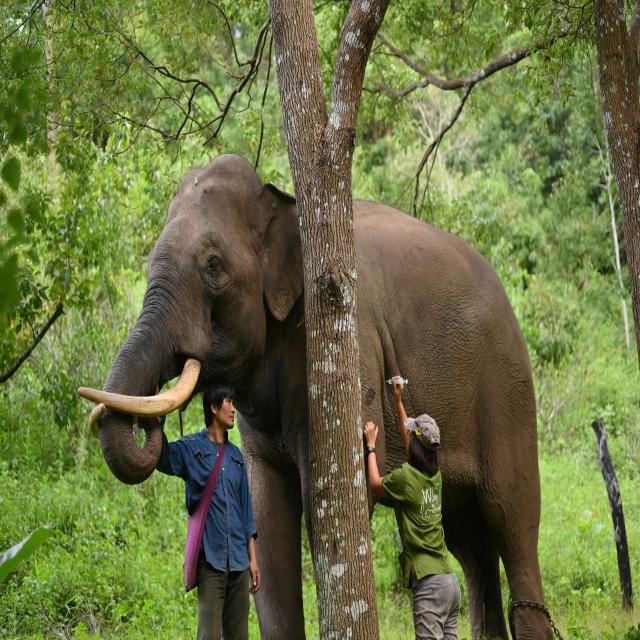Elephant: (78, 141, 566, 640)
